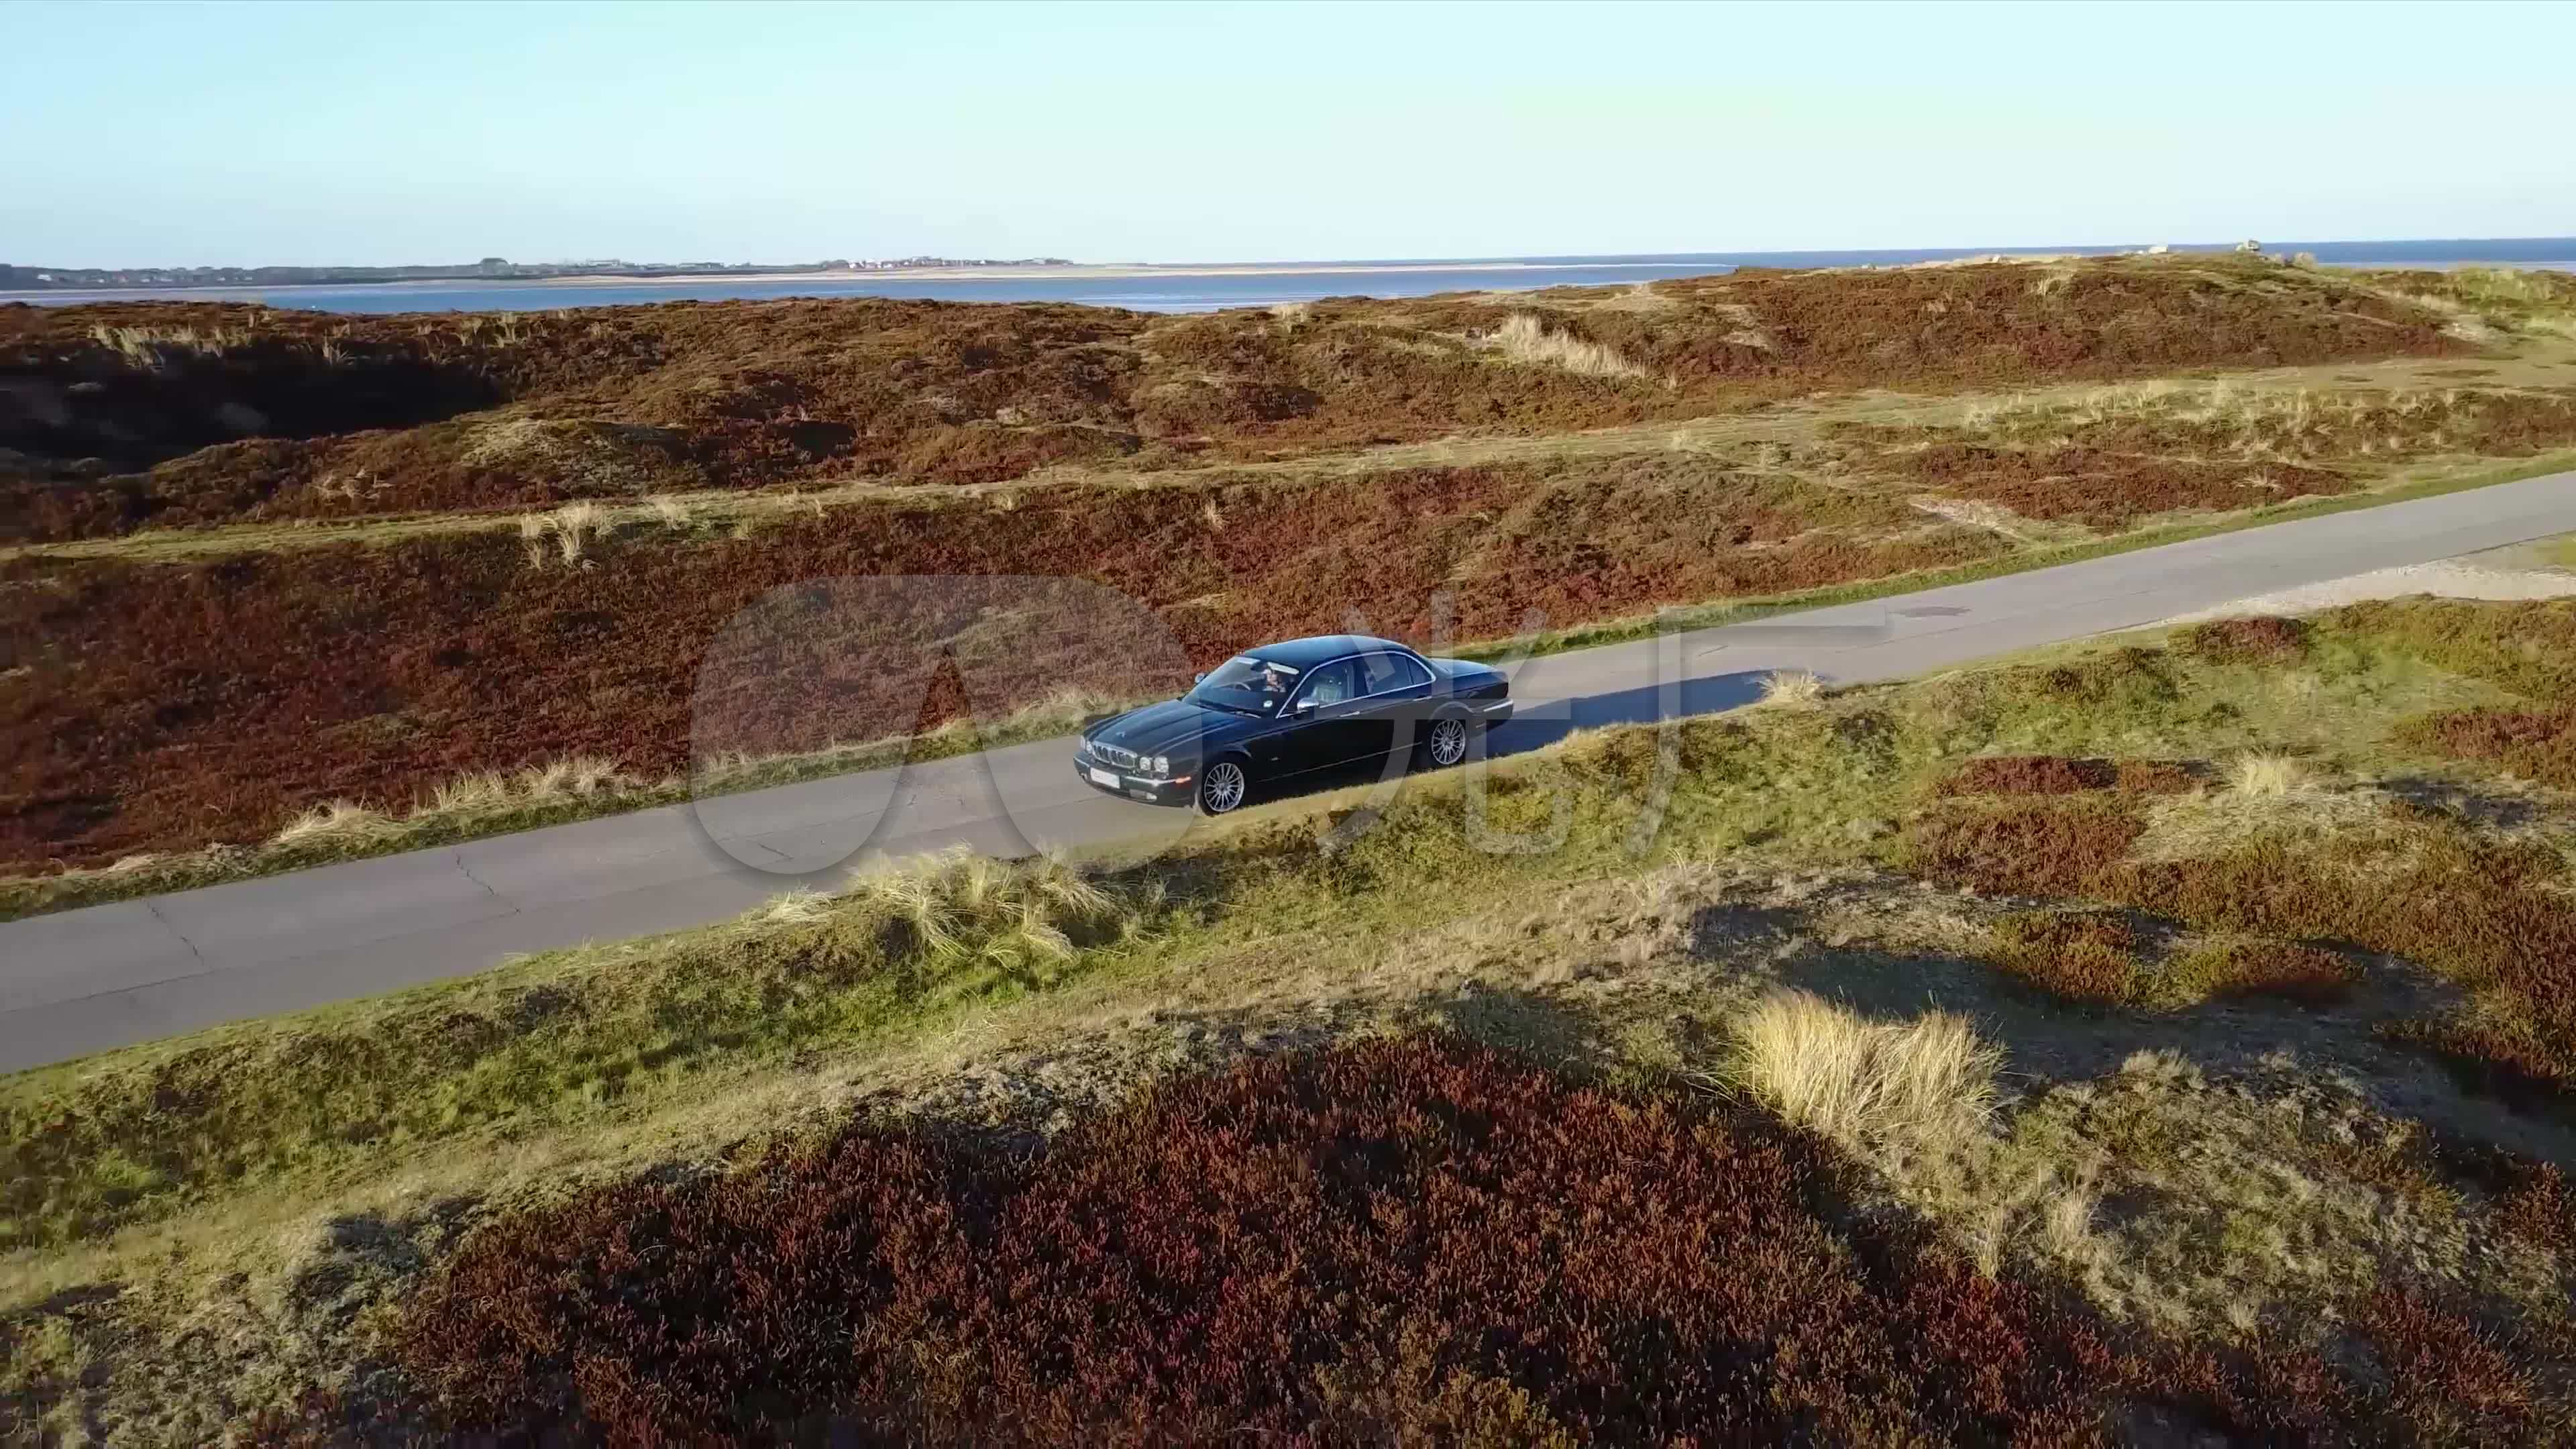car: (1065, 633, 1511, 798)
